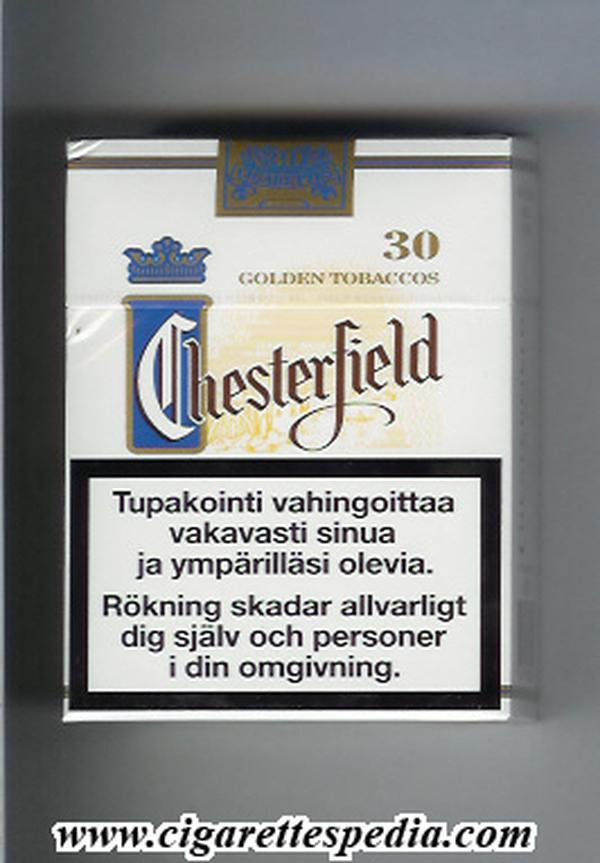chesterfield_blue: (70, 145, 508, 719)
